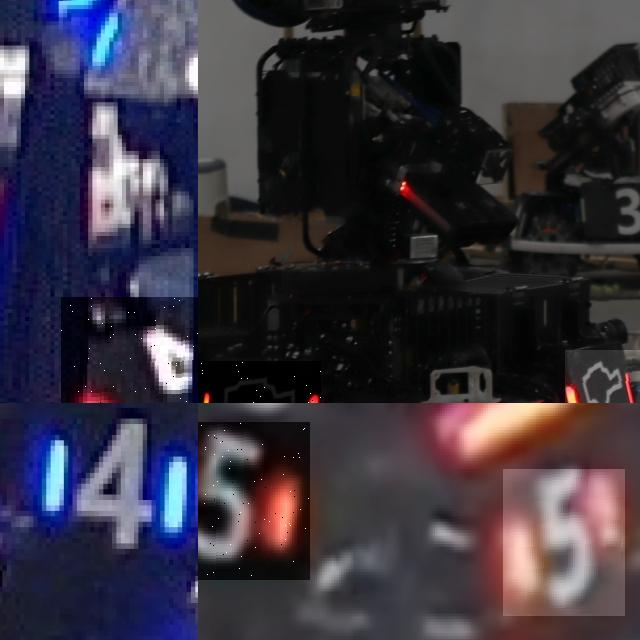B4: (22, 403, 193, 554)
R4: (61, 296, 198, 403)
R5: (503, 469, 625, 616), (198, 421, 310, 580)
Rs: (198, 360, 321, 403), (565, 349, 640, 403)
